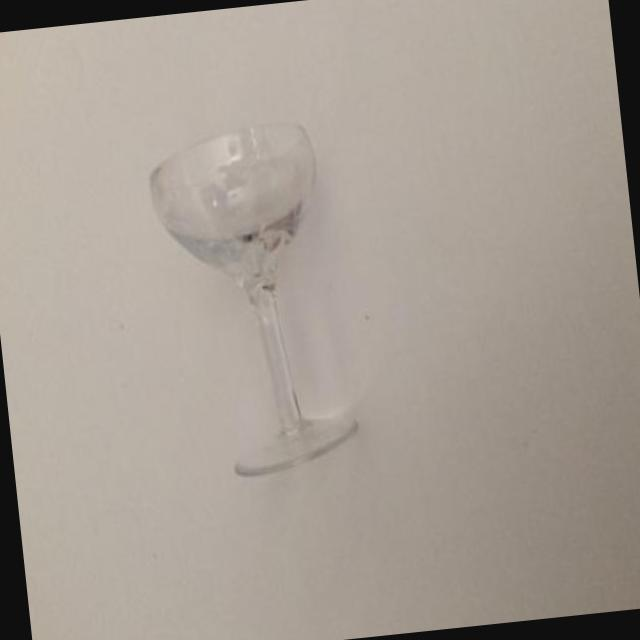chai_thuy_tinh: (146, 123, 356, 479)
